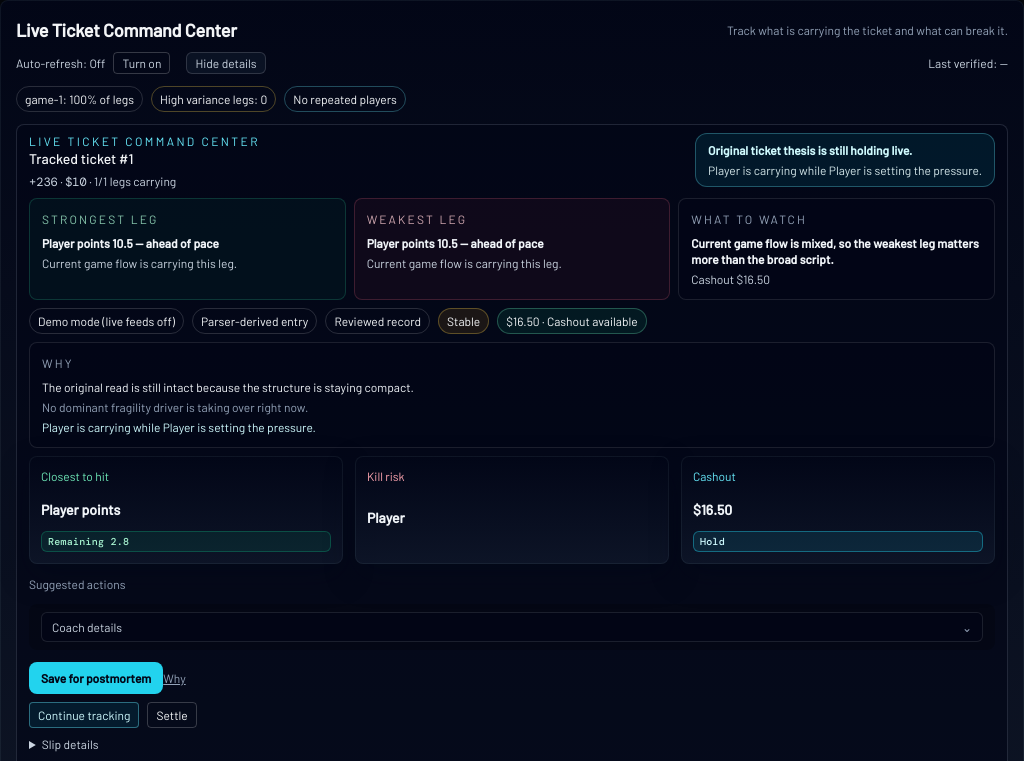
Test: OpenTicketsPanel › sweat mode off renders one-glance summary only
The width and height of the screenshot is (1024, 761).
Step 1. Click the button "Hide details" → (226, 63), box [186,52,266,74]
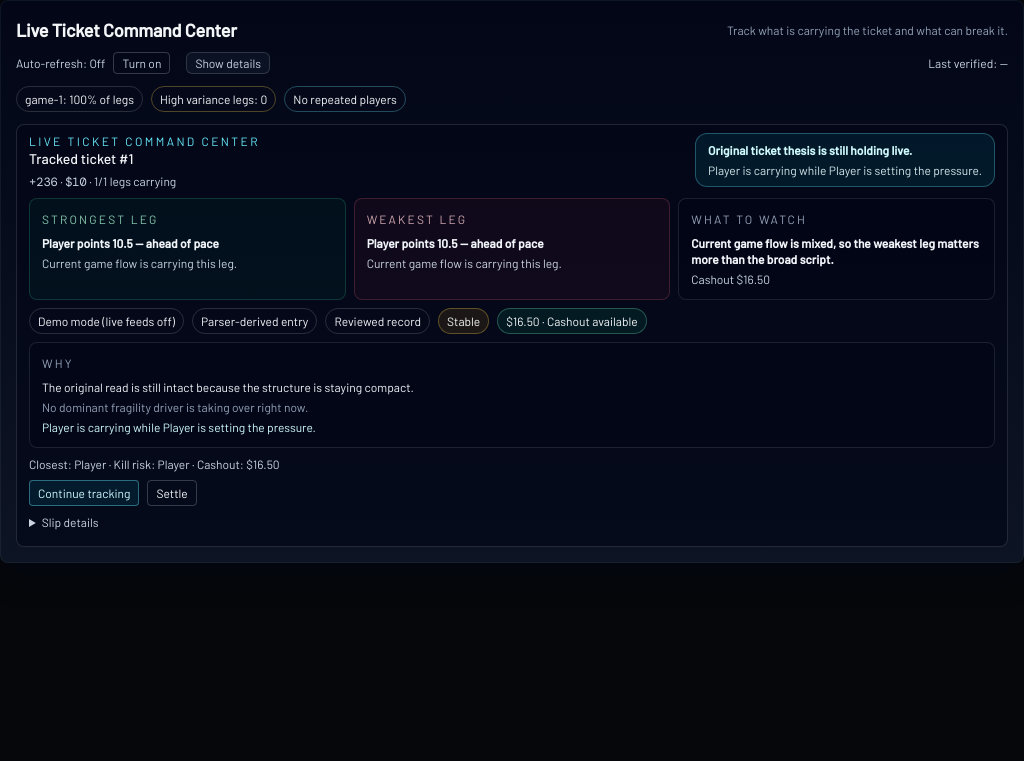
Check: the text "Strongest leg" is shown, box [42,212,159,226]
Check: the text "Suggested actions" is gone
